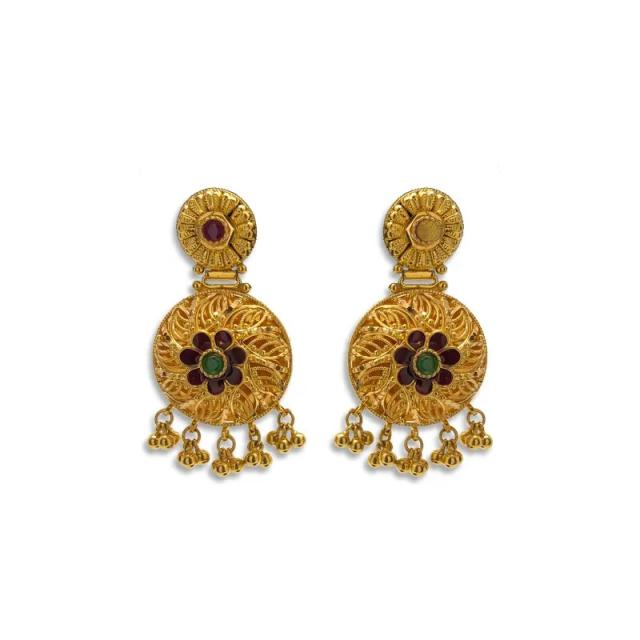missing gem: (417, 220, 439, 241)
